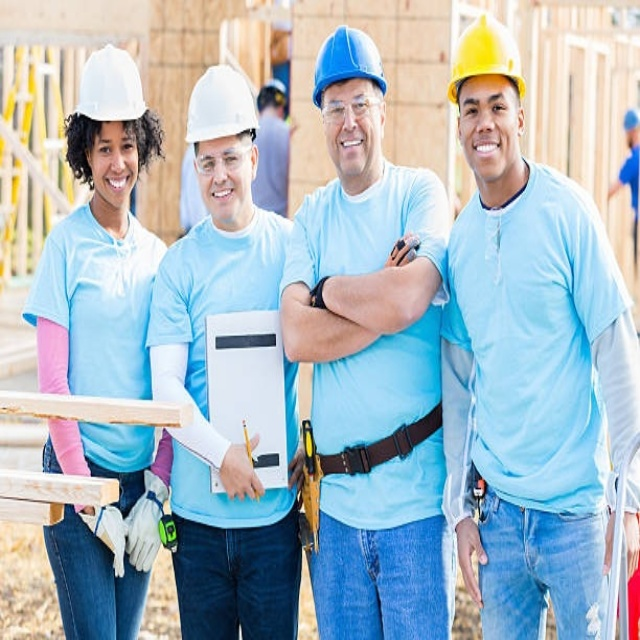Gafas: (193, 144, 252, 173), (318, 93, 383, 119)
Guantes: (121, 478, 168, 573), (78, 503, 127, 577)
Sin_gafas: (460, 88, 510, 119), (95, 136, 138, 163)
Sin_guantes: (219, 430, 266, 504), (455, 511, 490, 607), (604, 502, 640, 588)
Sin_mascara: (470, 136, 508, 176), (335, 135, 365, 168), (205, 182, 236, 207), (105, 174, 133, 201)
